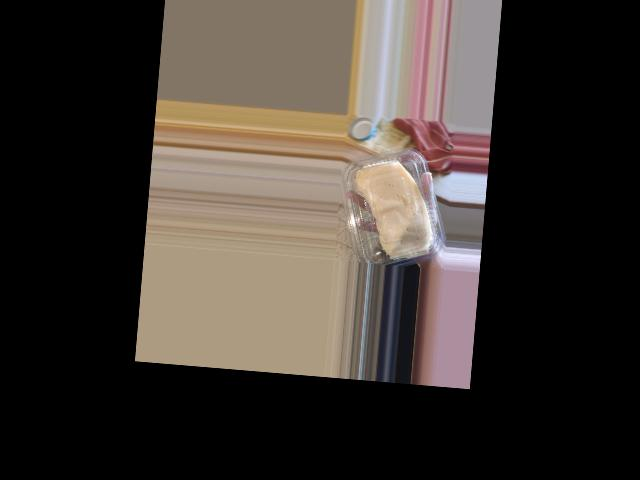cheese: (338, 141, 446, 270)
